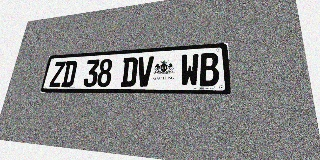3: (83, 59, 100, 87)
8: (96, 58, 114, 87)
B: (199, 52, 219, 86)
D: (120, 57, 138, 87), (61, 60, 78, 87)
V: (136, 56, 154, 87)
W: (180, 53, 199, 86)
Z: (49, 61, 66, 87)
